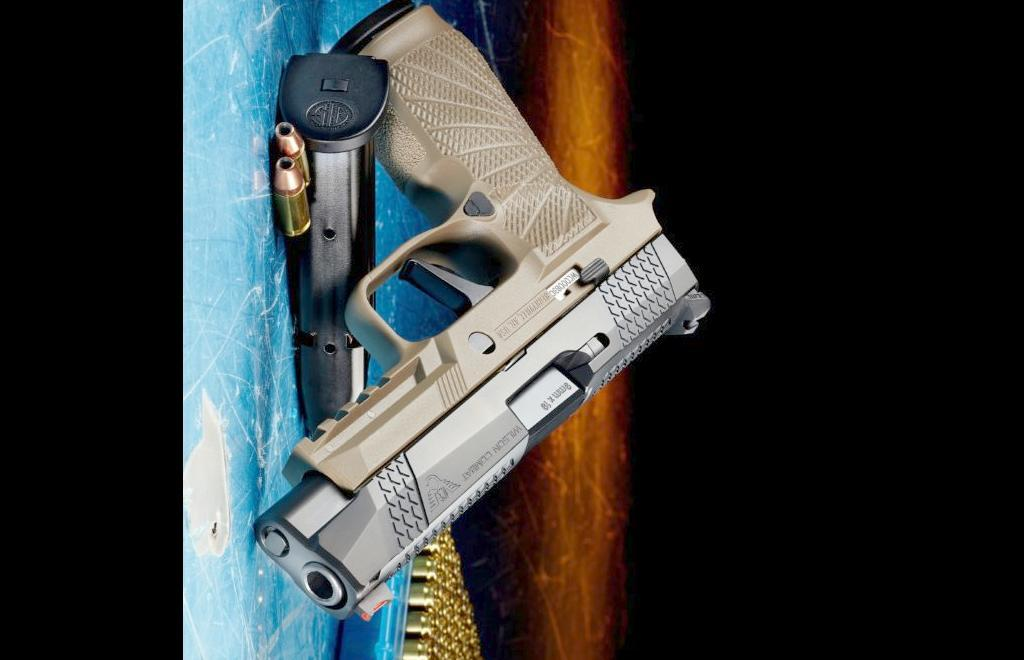gun: (227, 0, 715, 617)
